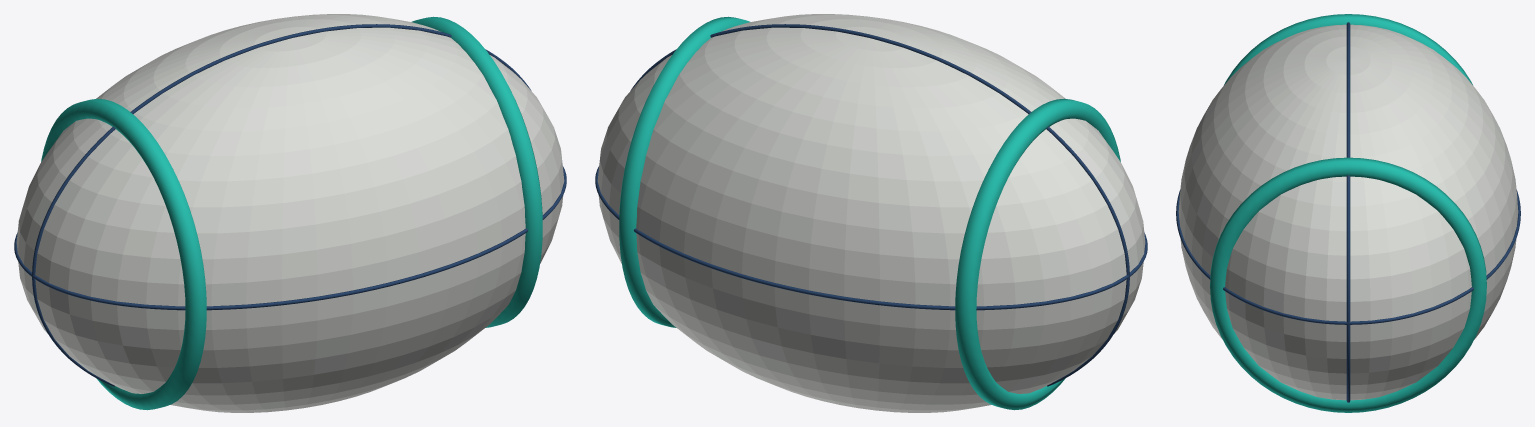
File: rugby.glb
3 renders of one model, left to right at view 1: azimuth 30°, elevation 25°; view 2: azimuth 150°, elevation 25°; view 3: azimuth 270°, elevation 25°, orthographic. The views are drawn at different scales.
Visible parts, largest first — view 1: rugby; view 2: rugby; view 3: rugby.
Boxes of the visible parts, x1,y1,x2,y2 form: rugby: [14, 14, 566, 412]; rugby: [595, 14, 1147, 412]; rugby: [1176, 14, 1520, 412].
Bounding box in the file's own units: 0.292 × 0.1925 × 0.1928.
